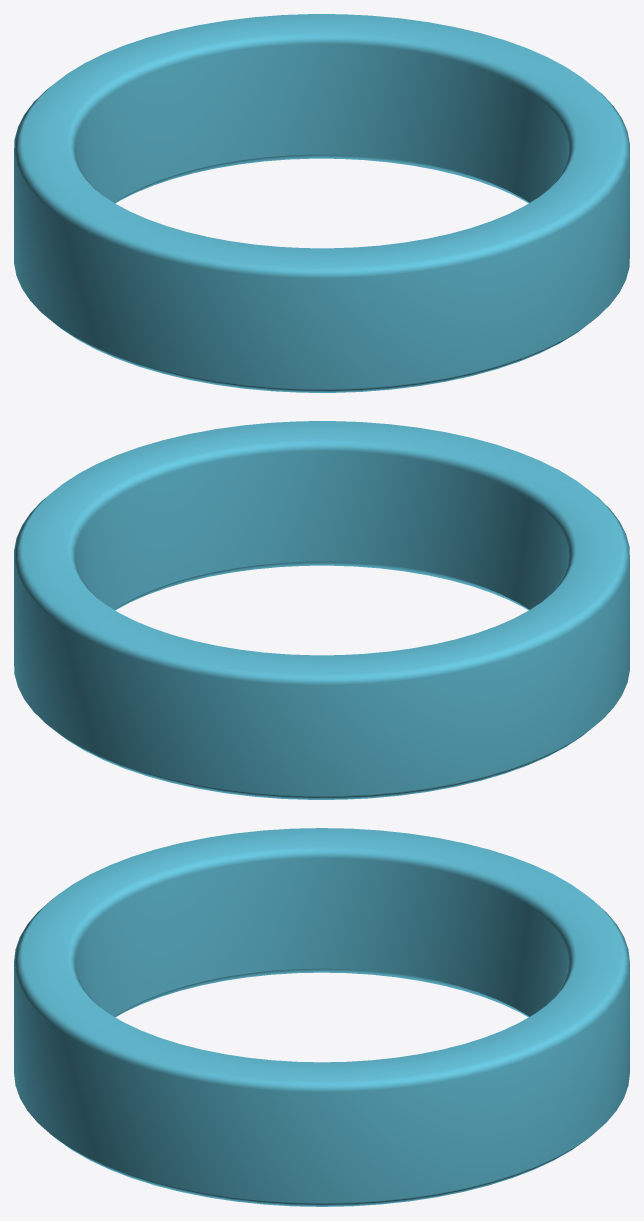
The picture shows the model from 3 angles, top to bottom: view 1: azimuth 30°, elevation 25°; view 2: azimuth 150°, elevation 25°; view 3: azimuth 270°, elevation 25°; orthographic projection.
Visible parts, largest first — view 1: seal_body; view 2: seal_body; view 3: seal_body.
Part boxes in pixels (x1,y1,x2,y2): seal_body: [14, 14, 629, 392]; seal_body: [14, 421, 629, 799]; seal_body: [14, 828, 629, 1206].
Bounding box in the file's own units: 0.04 × 0.009 × 0.04.
